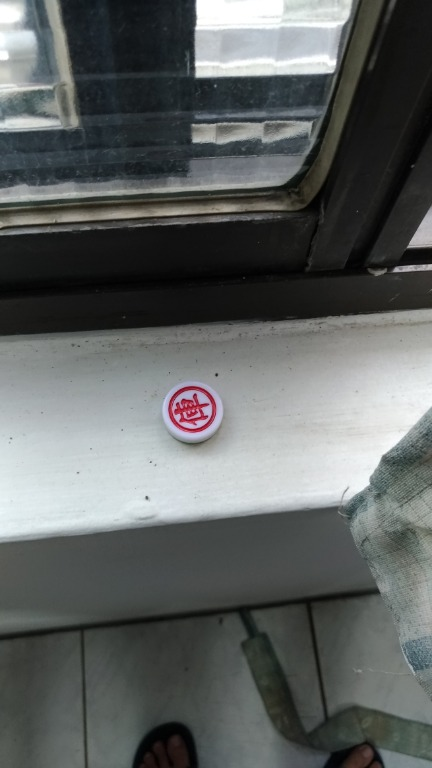r-rook: (156, 376, 246, 450)
